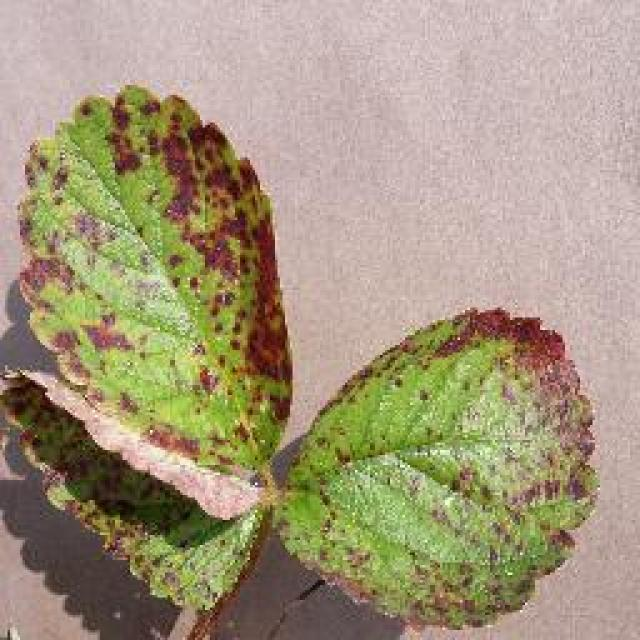Strawberry leaf scorch: (24, 109, 574, 538)
